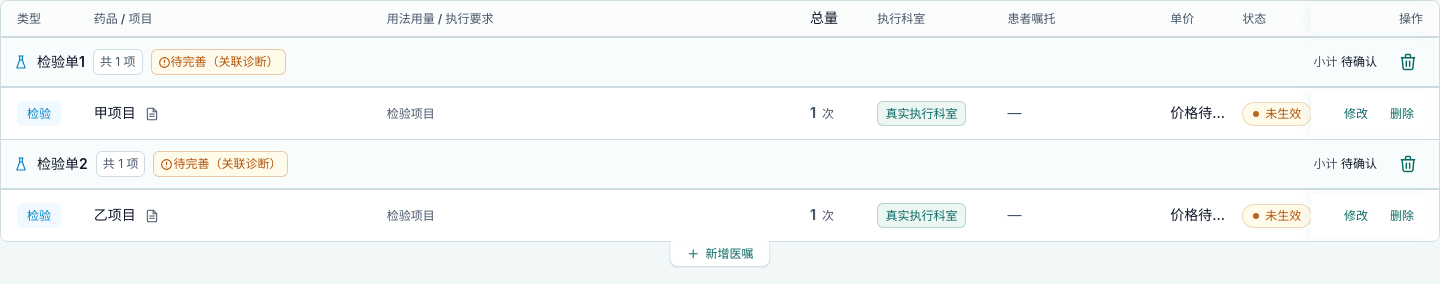
Scenario: UnifiedOrderListEditor › keeps a saved order in its original position while it is being revised
This screenshot has width=1440, height=284.
Click the button "修改" in the row of "甲项目" at coordinates (1356, 114), box [1335,98,1377,130]
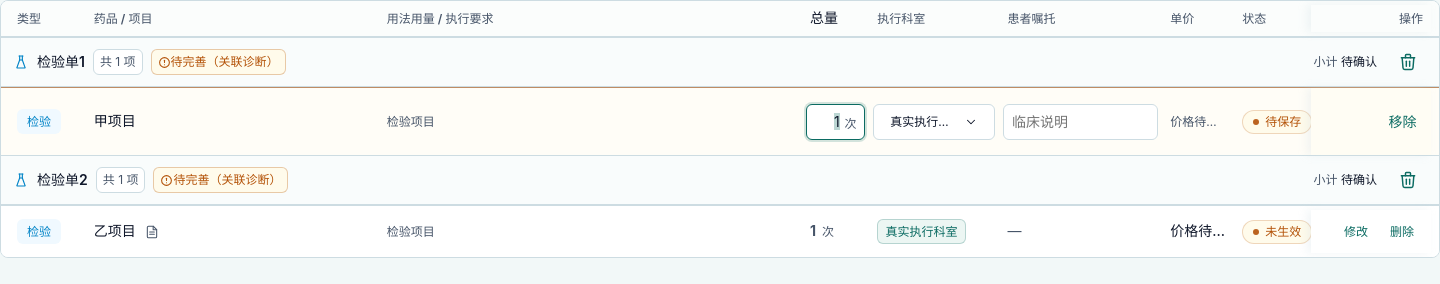
expect the row named "编辑待确认医嘱 甲项目" is shown: met, box [1,87,1439,155]
